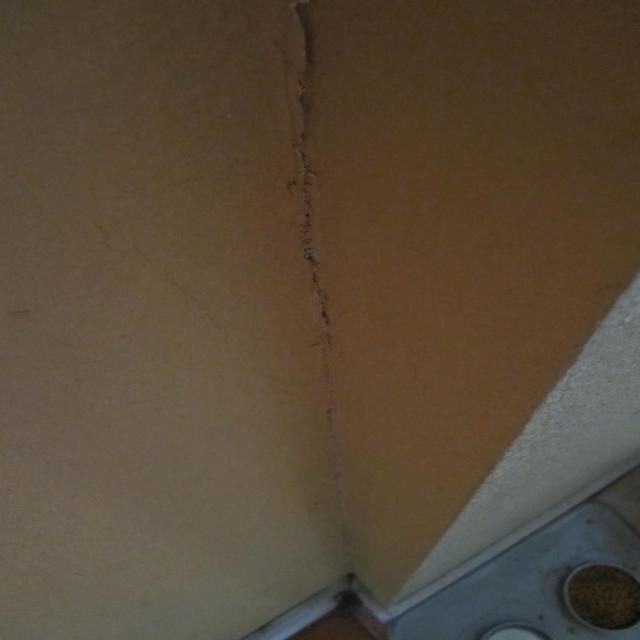crack: (292, 4, 337, 335)
